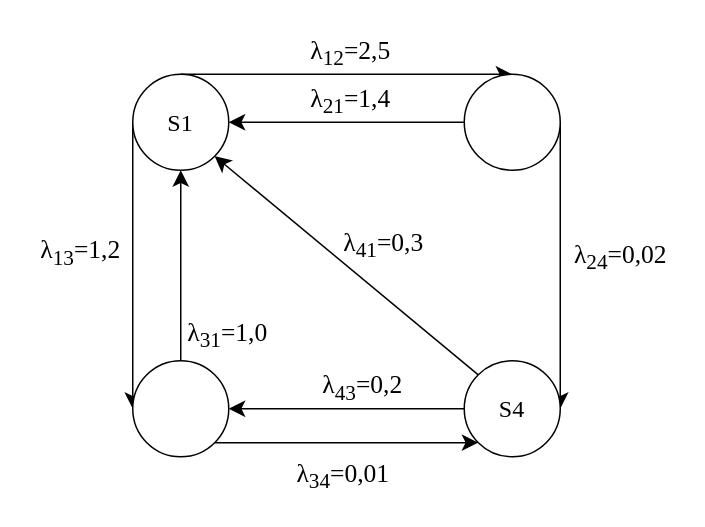
The diagram is 705 pixels wide and 527 high, and some of its shapes have lost their labels. Each missing label, with the centre of its shape:
S2: pixel 511 121
S3: pixel 180 408
